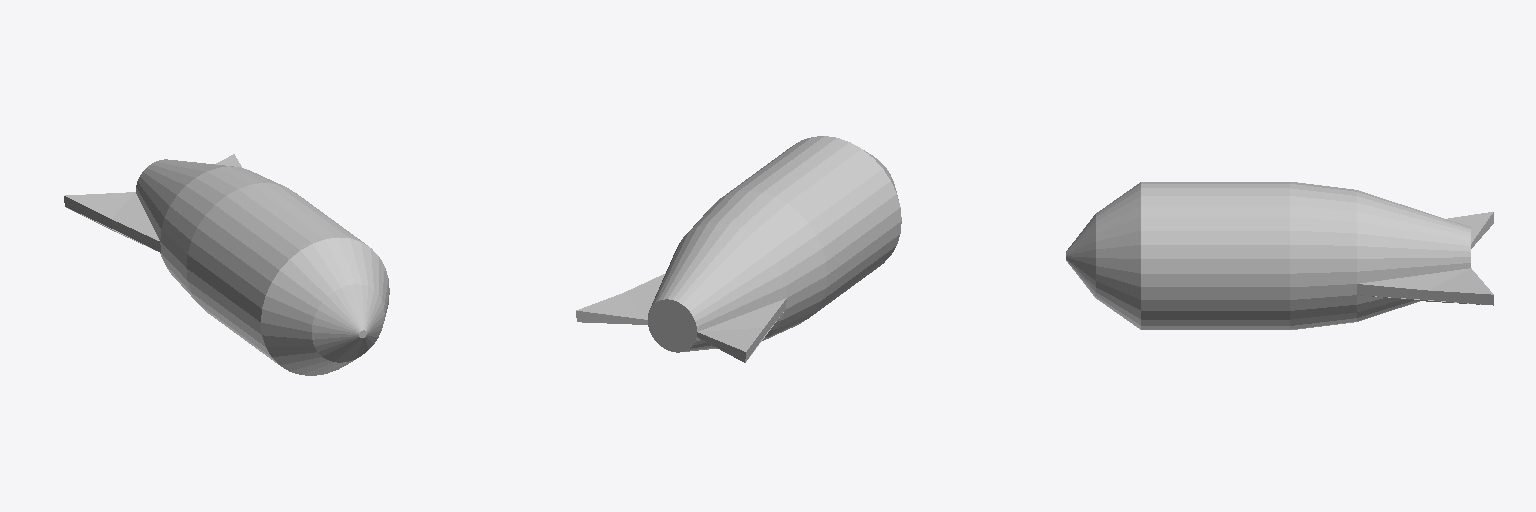
The model's file is bom (3).obj.
3 views of the same model, side by side, from view 1: azimuth 30°, elevation 25°; view 2: azimuth 150°, elevation 25°; view 3: azimuth 270°, elevation 25° (orthographic).
Parts seen in each view (by area): view 1: Cylinder; view 2: Cylinder; view 3: Cylinder.
Boxes of the visible parts, x1,y1,x2,y2 form: Cylinder: [64, 154, 389, 375]; Cylinder: [576, 136, 901, 362]; Cylinder: [1066, 182, 1493, 329].
Bounding box in the file's own units: 0.9902 × 0.75 × 2.15.